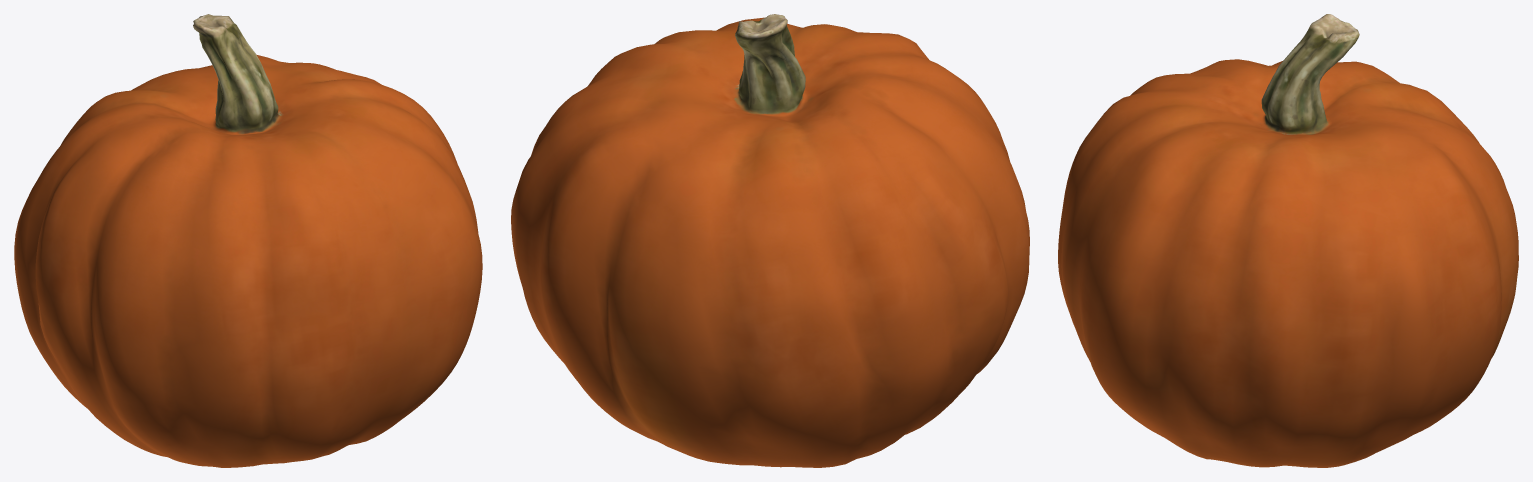
The model's file is VegetablePumpkin.fbx.
The picture shows the model from 3 angles, left to right: view 1: azimuth 30°, elevation 25°; view 2: azimuth 150°, elevation 25°; view 3: azimuth 270°, elevation 25°; orthographic projection. The views are drawn at different scales.
Parts seen in each view (by area): view 1: Pumpkin.001_Pumpkin; view 2: Pumpkin.001_Pumpkin; view 3: Pumpkin.001_Pumpkin.
Part boxes in pixels (x1,y1,x2,y2): Pumpkin.001_Pumpkin: [14, 14, 482, 467]; Pumpkin.001_Pumpkin: [511, 14, 1029, 467]; Pumpkin.001_Pumpkin: [1058, 14, 1518, 467].
Bounding box in the file's own units: 36.61 × 34.07 × 35.97.
1 material, 1 textured.
